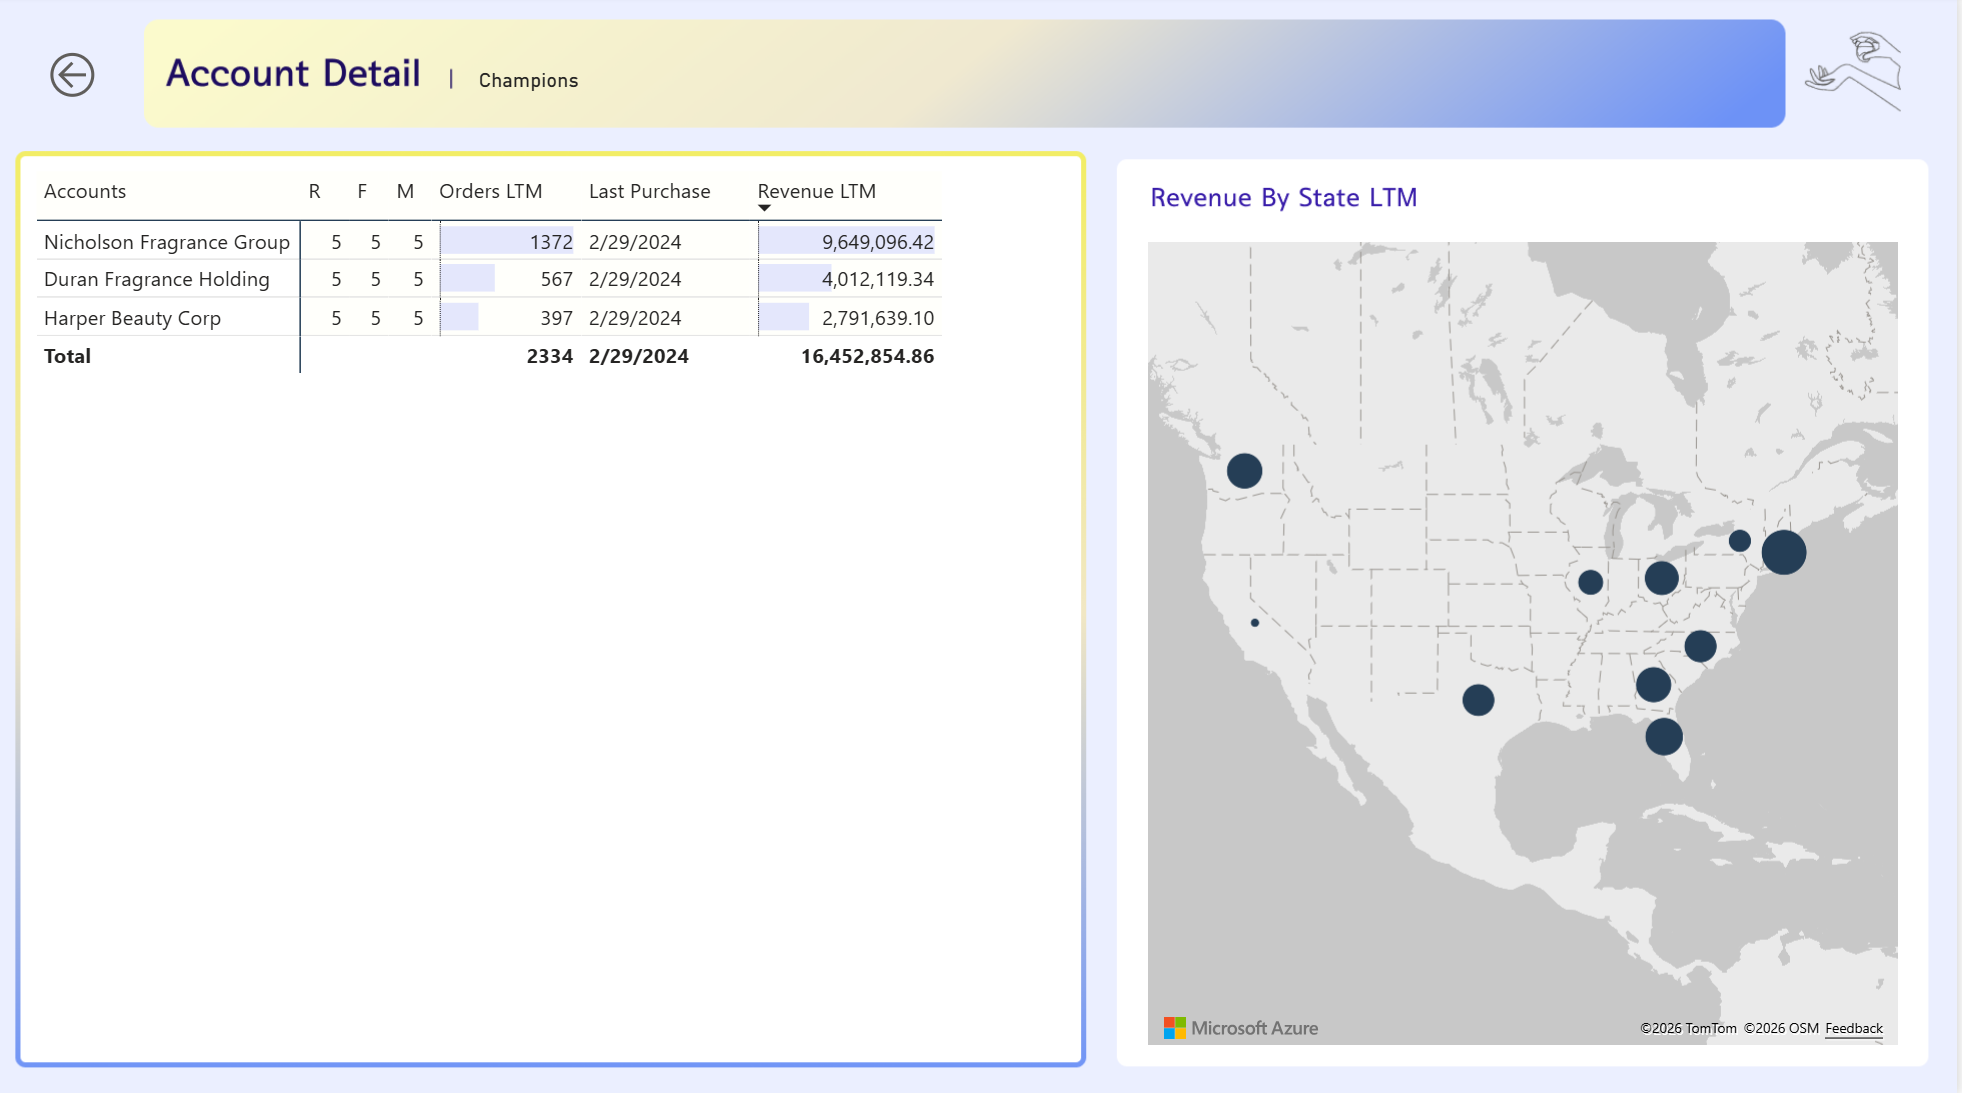

What the dashboard file says about the page in this screenshot:
{"tool":"powerbi","page":{"name":"Account Detail","canvas":[1280,720],"ordinal":8},"visuals":[{"type":"actionButton","box":[29.4,32,48.6,39.7],"z":0},{"type":"pivotTable","fields":{"Rows":["dim_cust.cust_group"],"Values":["_Medidas.R Score alternativo","_Medidas.F Score alternativo","_Medidas.V Score alternativo","_Medidas.F - Notas Emitidas 12M","_Medidas.R - Ultima Compra","_Medidas.Faturamento Segmento"]},"box":[20.5,110,683.3,580.9],"z":1000},{"type":"azureMap","fields":{"Category":["fact_sales.customer_state"],"Size":["_Measures.Segment Revenue"]},"box":[747.3,156.1,500.3,534.9],"z":2000},{"type":"cardVisual","fields":{"Data":["Min(aux_segments.Segment)"]},"box":[297.5,34.7,174.8,34.7],"z":3000}]}

Visuals, with their boxes in screenshot pixels (x1, y1, x2, y2), scaled from the page's 1280x720 canvas onto the 1962x1093 screenshot:
actionButton: [45,49,120,109]
pivotTable - dim_cust.cust_group x _Medidas.R Score alternativo: [31,167,1079,1049]
azureMap - fact_sales.customer_state x _Measures.Segment Revenue: [1145,237,1912,1049]
cardVisual - Min(aux_segments.Segment): [456,53,724,105]
